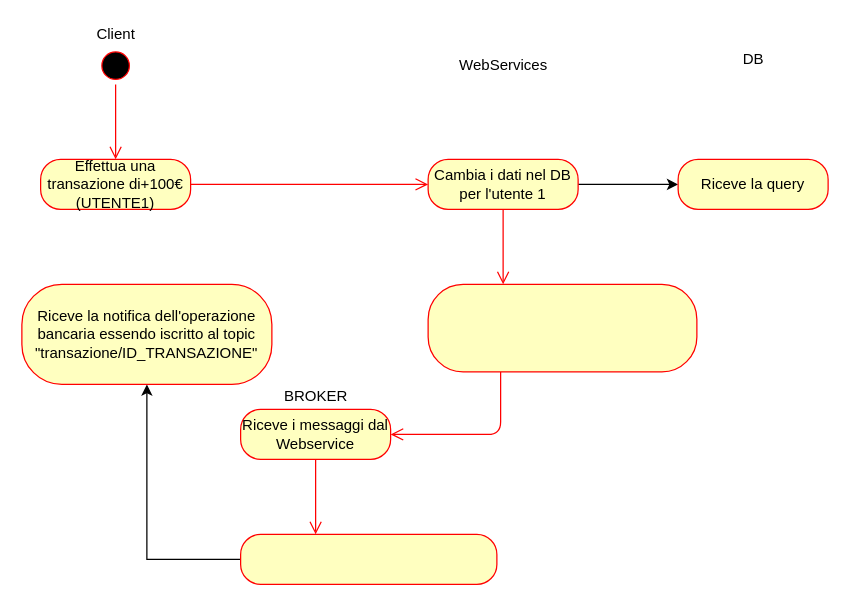
The diagram is 850 pixels wide and 606 high, and some of its shapes have lost their labels. The box of each missing label's shape, as (x1, y1, x2, y2) in pixels:
Invia il cambiamento al broker MQTT sul topic "transazione/ ID_TRANSAZIONE": (427, 283, 697, 372)
Reinoltra i cambiamenti nel topic "transazione/ID_TRANSAZIONE": (239, 533, 497, 584)
